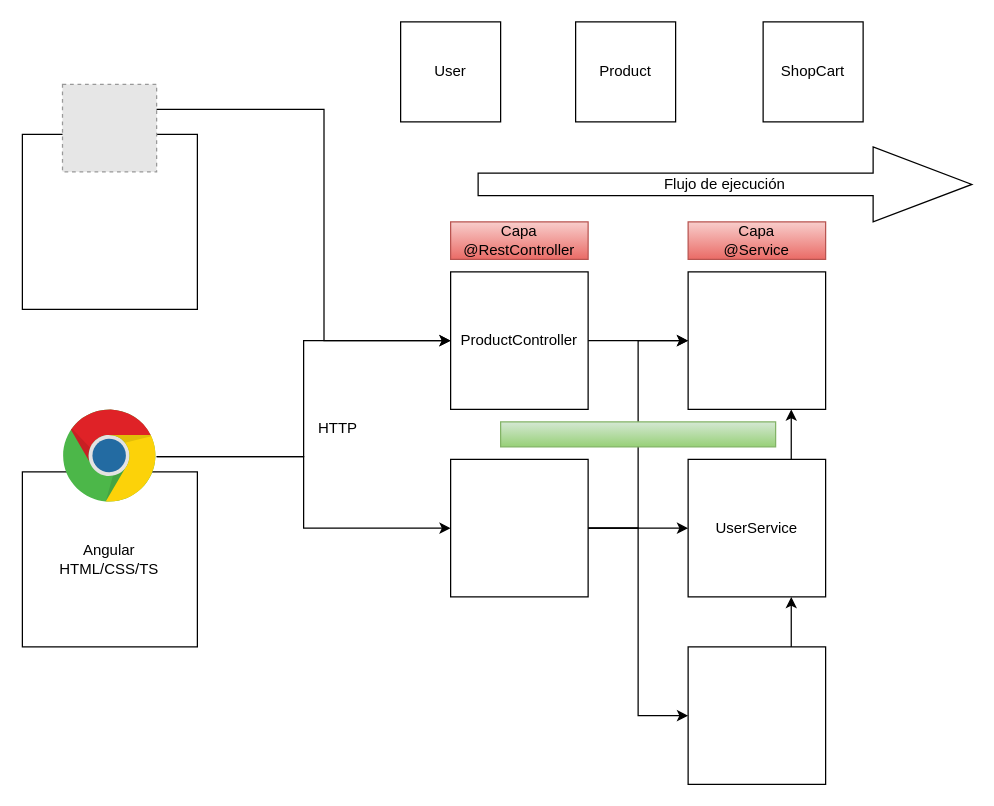
The diagram is 994 pixels wide and 806 high, and some of its shapes have lost their labels. Grey dashed boxes stand in for pictures. Each missing label, with the box of its shape:
Inyección de dependencias con Spring: (499, 421, 776, 447)
Postman: (21, 133, 197, 309)
ProductService: (687, 271, 826, 409)
ShopCartController: (449, 458, 588, 597)
XService: (687, 646, 826, 784)
